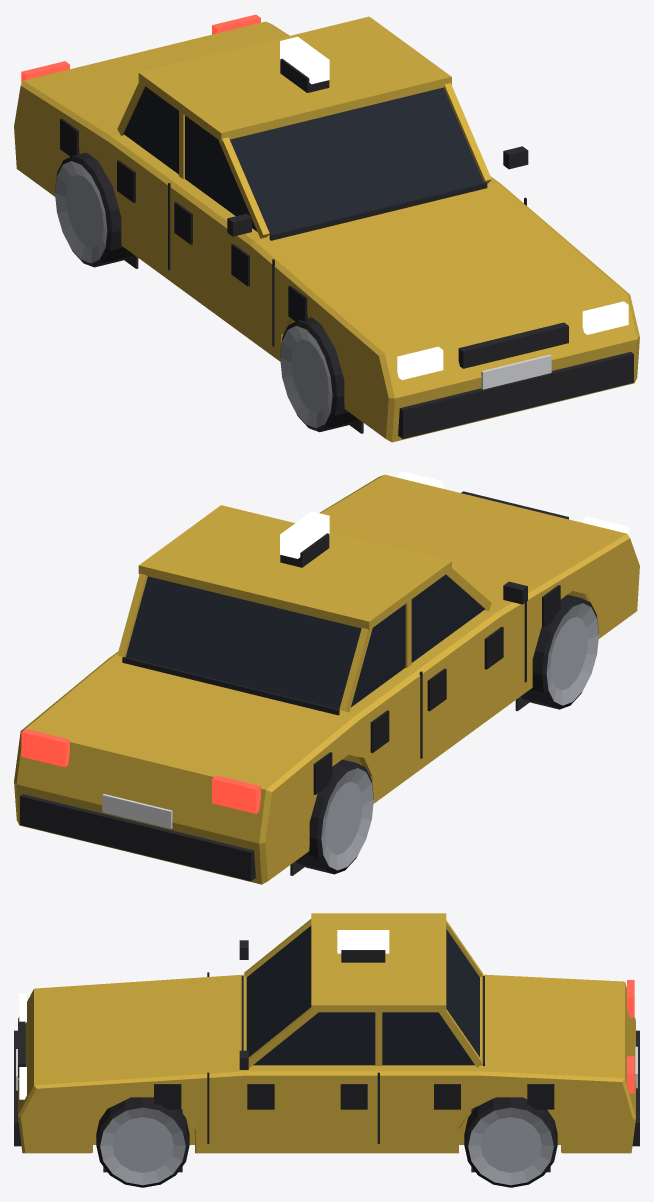
The model's file is taxi.glb.
The picture shows the model from 3 angles, top to bottom: view 1: azimuth 30°, elevation 25°; view 2: azimuth 150°, elevation 25°; view 3: azimuth 270°, elevation 25°; orthographic projection. The views are drawn at different scales.
Parts seen in each view (by area): view 1: taxi, wheel_RR, wheel_FR; view 2: taxi, wheel_FR, wheel_RR; view 3: taxi, wheel_RL, wheel_FL.
Part boxes in pixels (<box>): taxi: <box>14,14,639,442</box>; wheel_RR: <box>55,152,132,267</box>; wheel_FR: <box>280,317,357,432</box>; taxi: <box>14,471,639,884</box>; wheel_FR: <box>521,594,598,709</box>; wheel_RR: <box>296,759,373,874</box>; taxi: <box>14,913,639,1172</box>; wheel_RL: <box>464,1097,557,1187</box>; wheel_FL: <box>96,1097,189,1187</box>.
Bounding box in the file's own units: 2.15 × 1.72 × 4.83.
